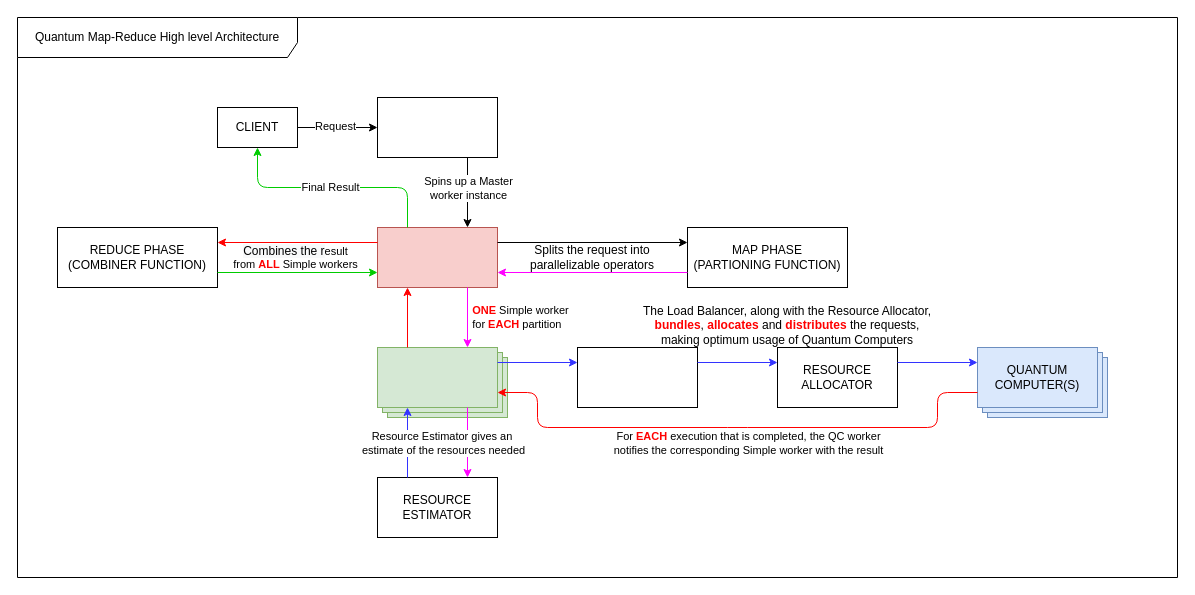
The diagram is 1195 pixels wide and 595 high, and some of its shapes have lost their labels. Each missing label, with the centre of its shape:
"LOAD BALANCER" belongs at [637,377].
"MASTER WORKER" belongs at [437,257].
"REQUEST DISPATCHER" belongs at [437,127].
"SIMPLE WORKER(S)" belongs at [437,377].
